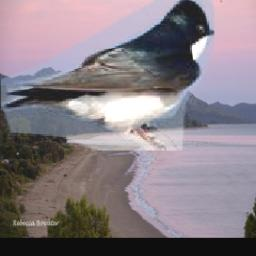Swallow: (1, 0, 214, 151)
